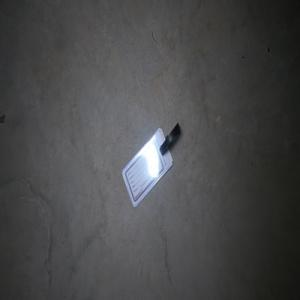LuggageTag: (120, 121, 181, 209)
